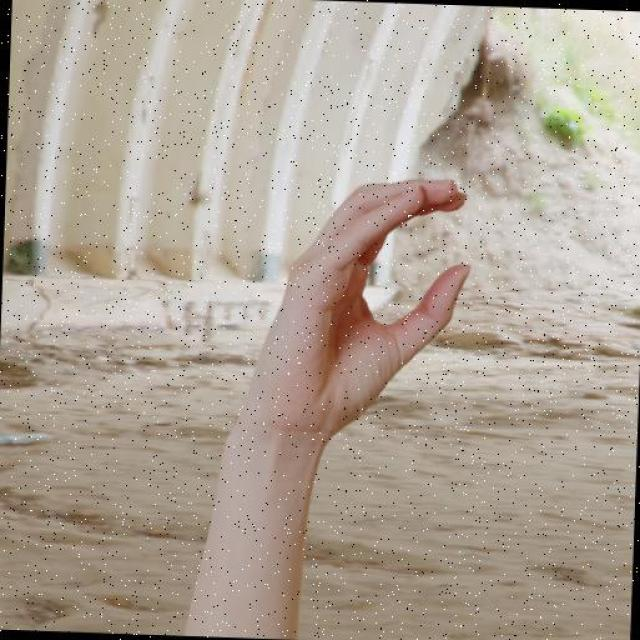C: (231, 164, 480, 450)
